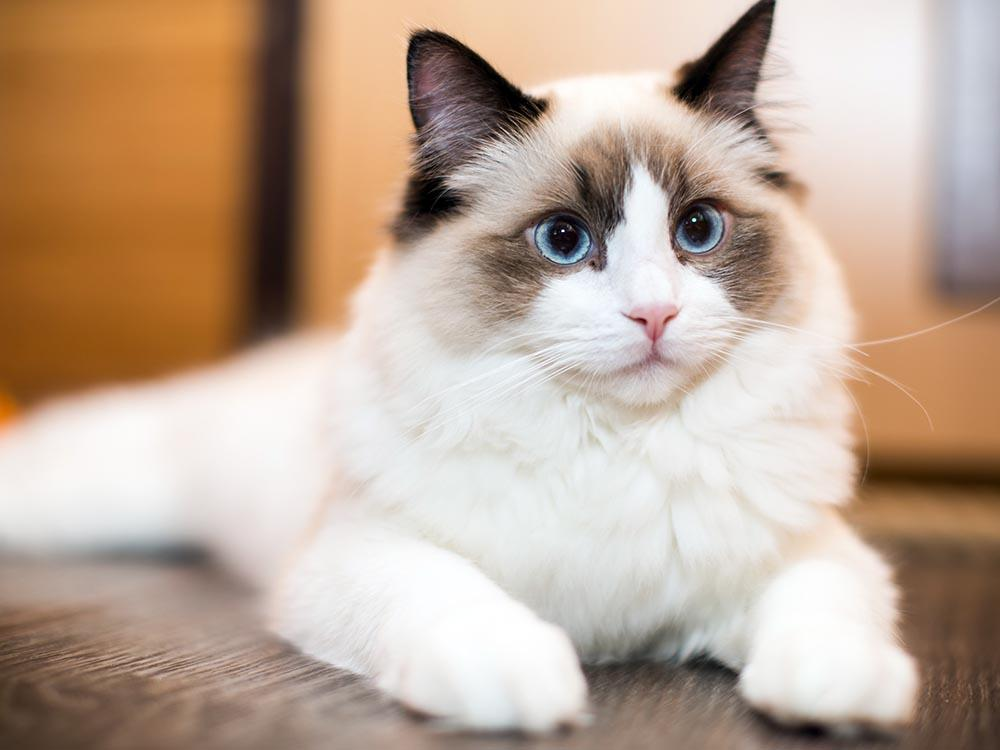ragdoll: (400, 1, 817, 414)
